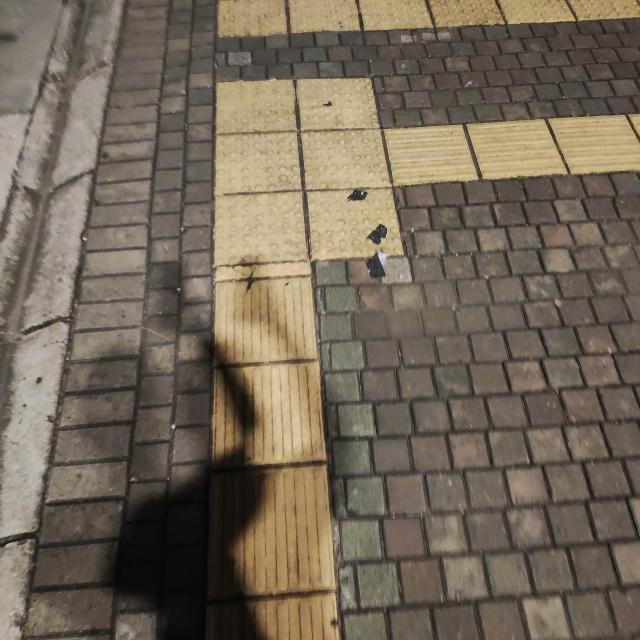kanan: (153, 98, 515, 338)
